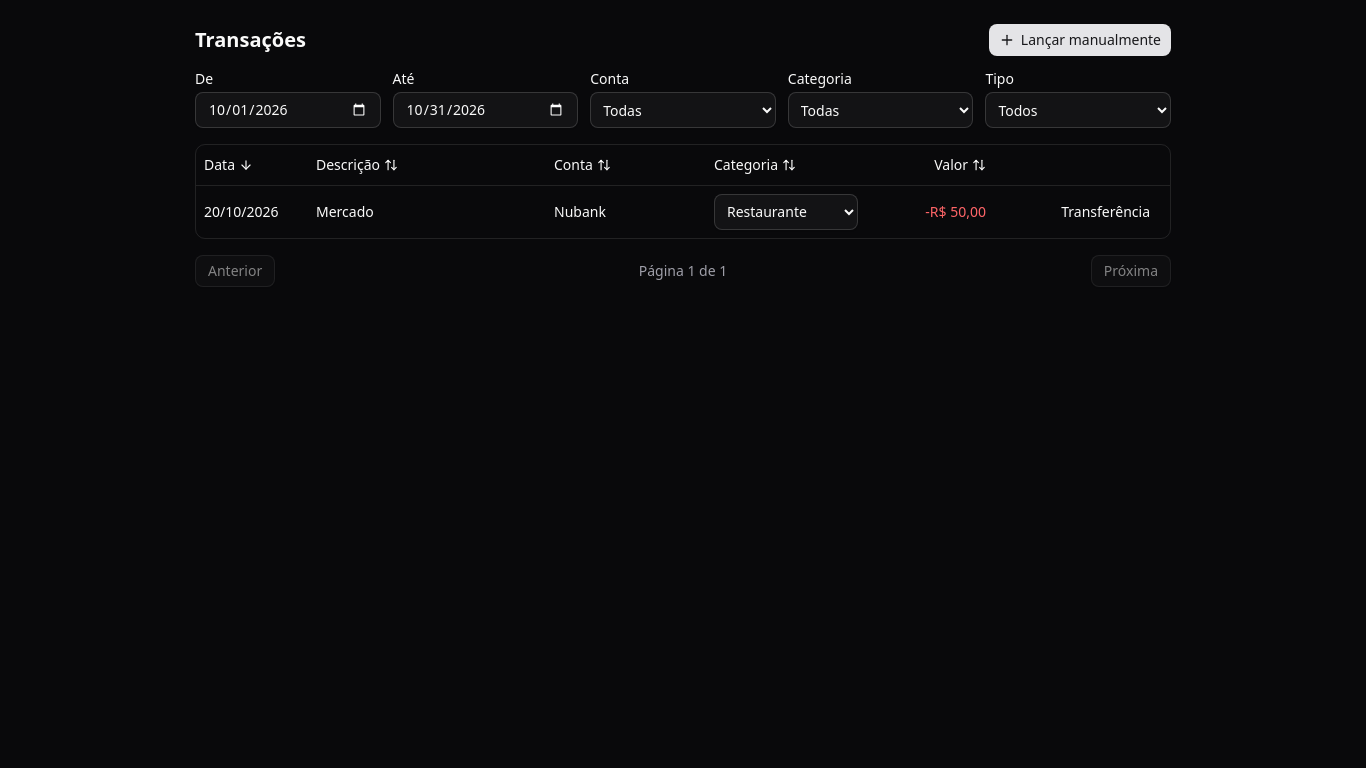
Scenario: Transactions › does not submit an invalid amount
Check: the text "Mercado" is shown, box [316,202,374,220]
Click the button "Lançar manualmente": coordinates (1080, 40) [989,24,1171,56]
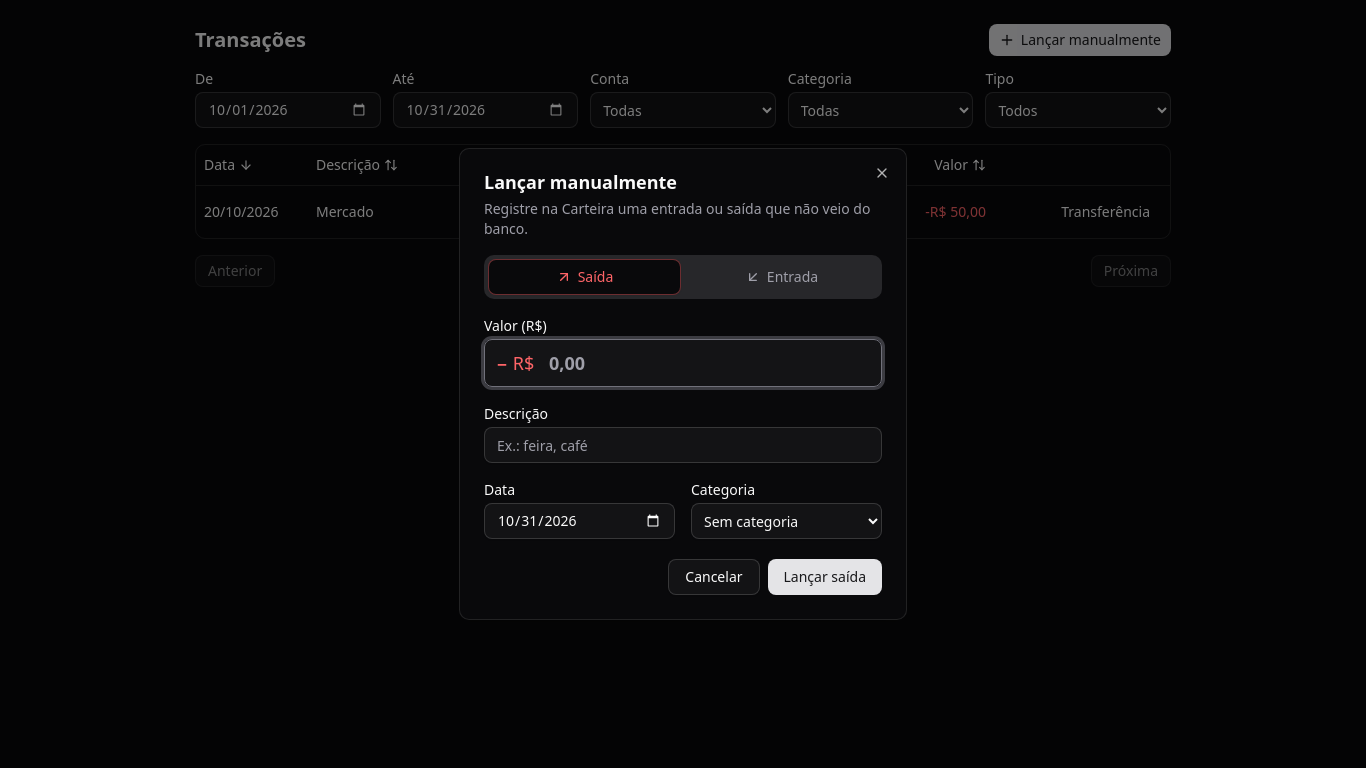
In the field labelled "Descrição": coordinates (683, 445) [484,427,882,463], type "X"
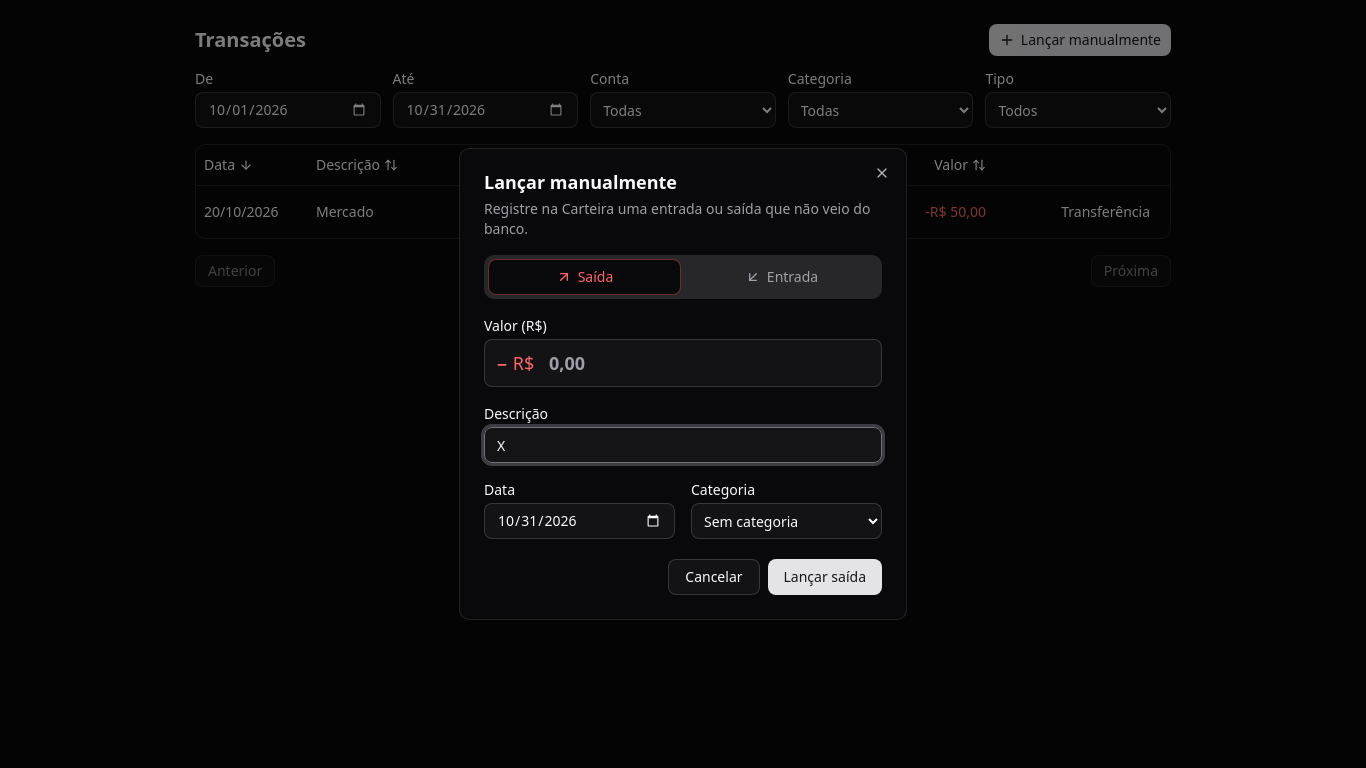
Click the button "Lançar saída": coordinates (825, 577) [768,559,882,595]
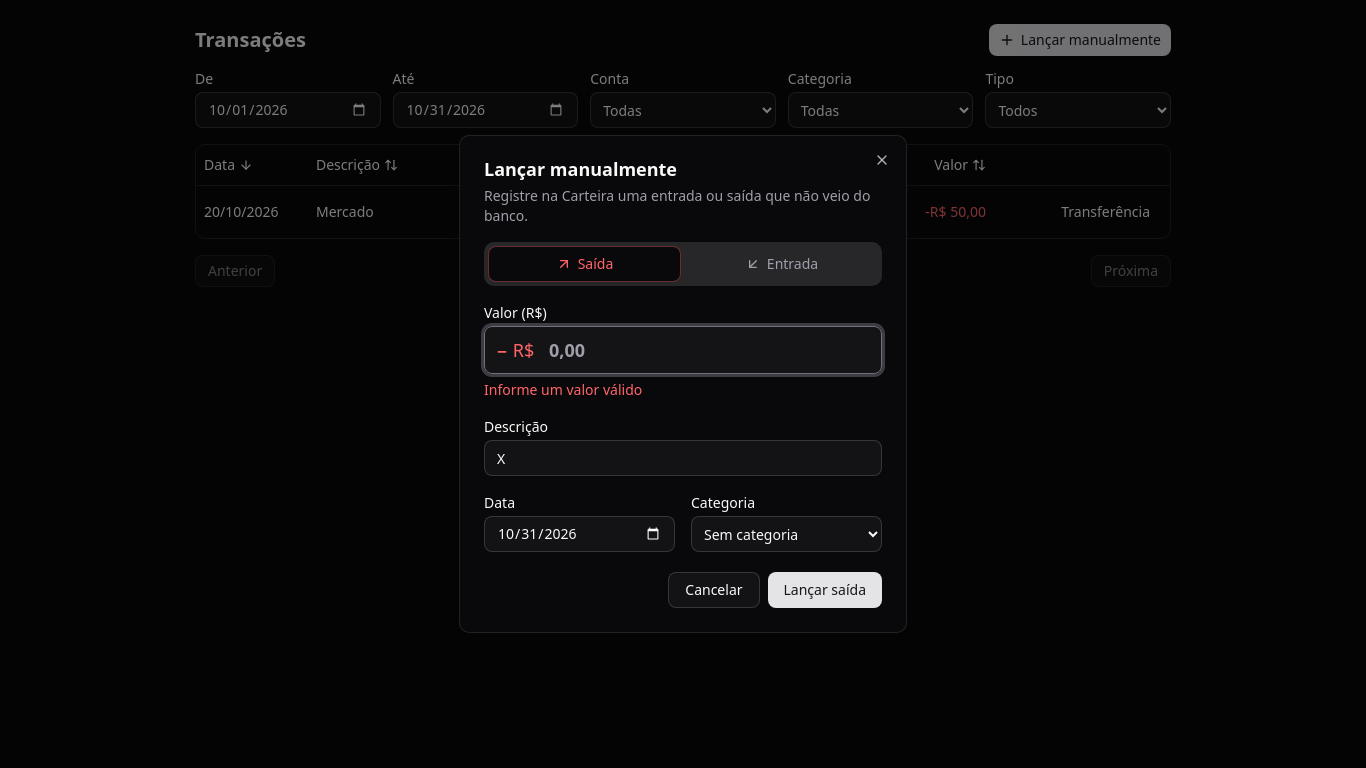
Check: the text "Informe um valor válido" is shown, box [484,380,642,399]
